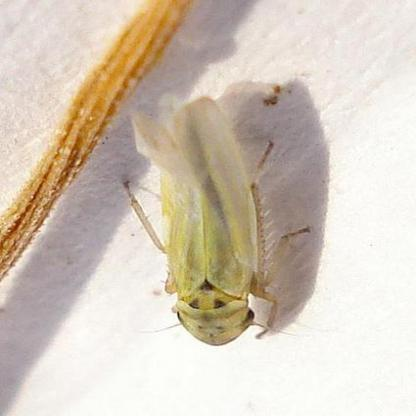green-leafhopper: (134, 95, 290, 345)
